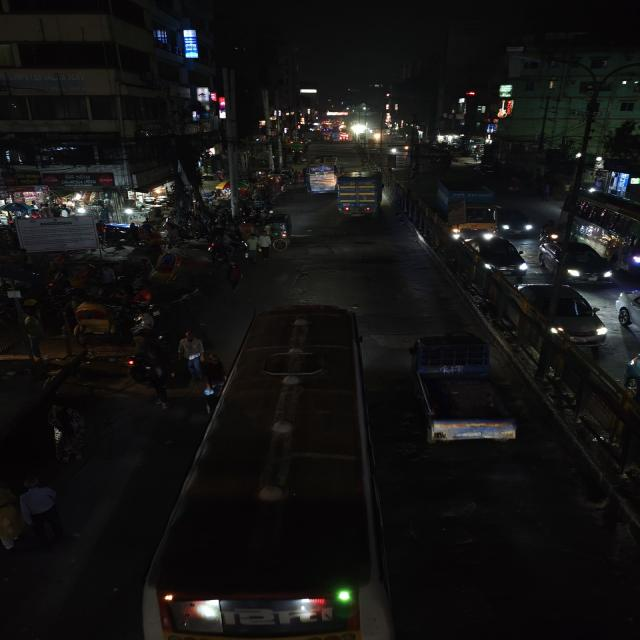bus: (164, 298, 376, 640), (566, 185, 640, 272), (304, 154, 342, 196)
car: (513, 277, 613, 353), (536, 233, 610, 291), (462, 236, 531, 276), (496, 201, 534, 237)
cng: (262, 212, 293, 244)
motorcycle: (122, 330, 167, 384)
pedestrian: (17, 477, 68, 549), (179, 330, 206, 380), (224, 258, 243, 292), (244, 232, 260, 264), (256, 230, 270, 263)
pickup_van: (404, 328, 520, 452)
rickshaw: (72, 299, 124, 343), (133, 254, 185, 291)
truck: (432, 176, 494, 244), (335, 166, 385, 222)
